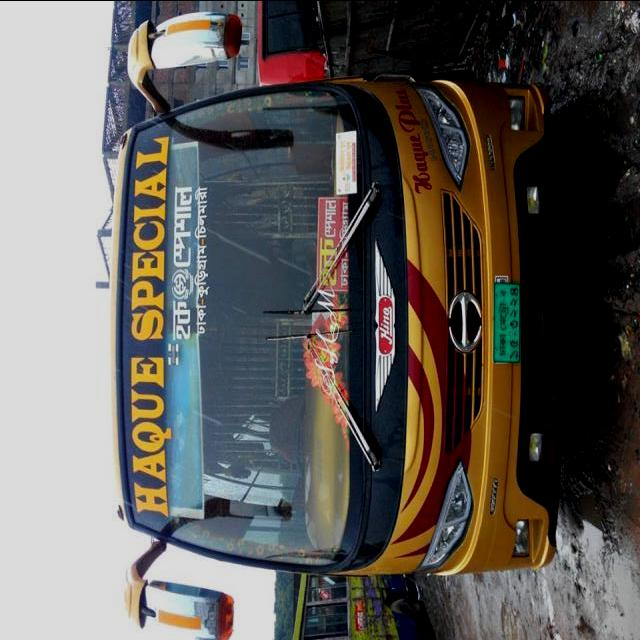bus: (107, 10, 566, 640)
